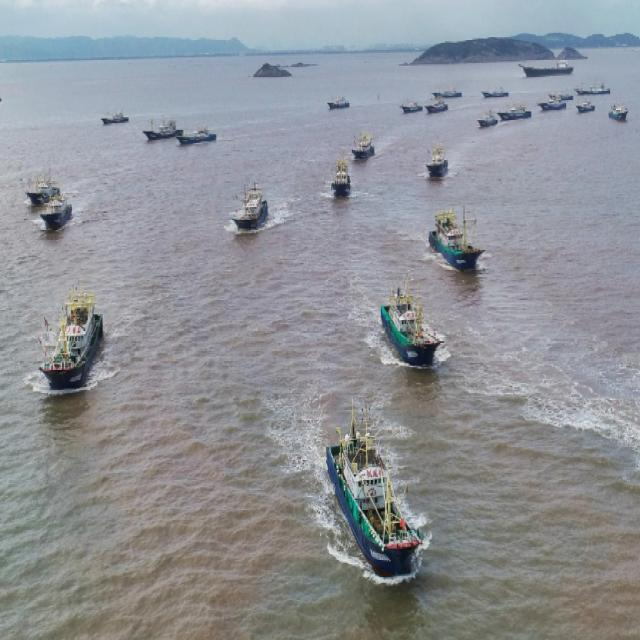fishing boat: (322, 416, 427, 578), (41, 286, 104, 381), (380, 280, 440, 366), (430, 205, 479, 268), (232, 175, 268, 230), (37, 192, 72, 235), (516, 58, 577, 76), (24, 177, 60, 206), (328, 158, 352, 201), (176, 125, 217, 144), (424, 143, 448, 175), (146, 117, 180, 139), (350, 131, 373, 161), (538, 93, 568, 116), (98, 108, 128, 129), (498, 104, 532, 122), (575, 83, 610, 98), (400, 97, 422, 118), (434, 87, 462, 103), (608, 101, 628, 123), (427, 94, 450, 113), (481, 84, 508, 100), (475, 112, 499, 127), (548, 88, 577, 100), (329, 95, 350, 111), (575, 98, 595, 111)
